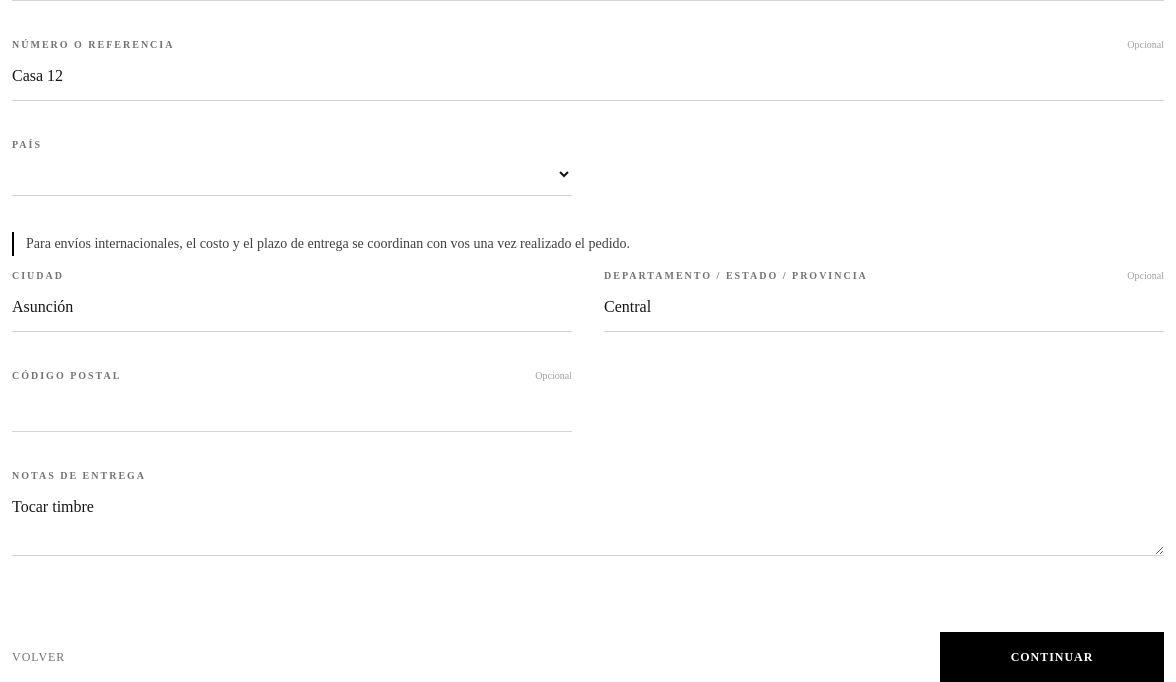
Test: ShippingStep › blocks a country outside the list and reports it on the field
(page scrolled)
Click the button "Continuar" at coordinates (1052, 657), box [940,632,1164,681]
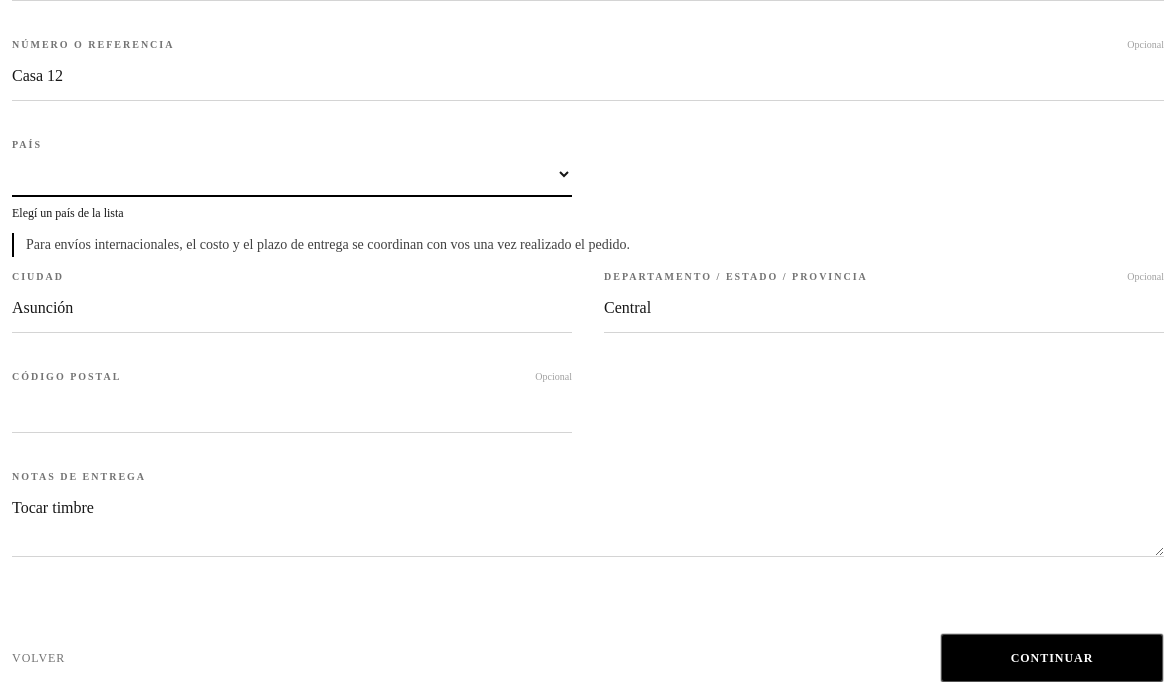
Expected: the text "Elegí un país de la lista" is shown, [12,206,124,220]
